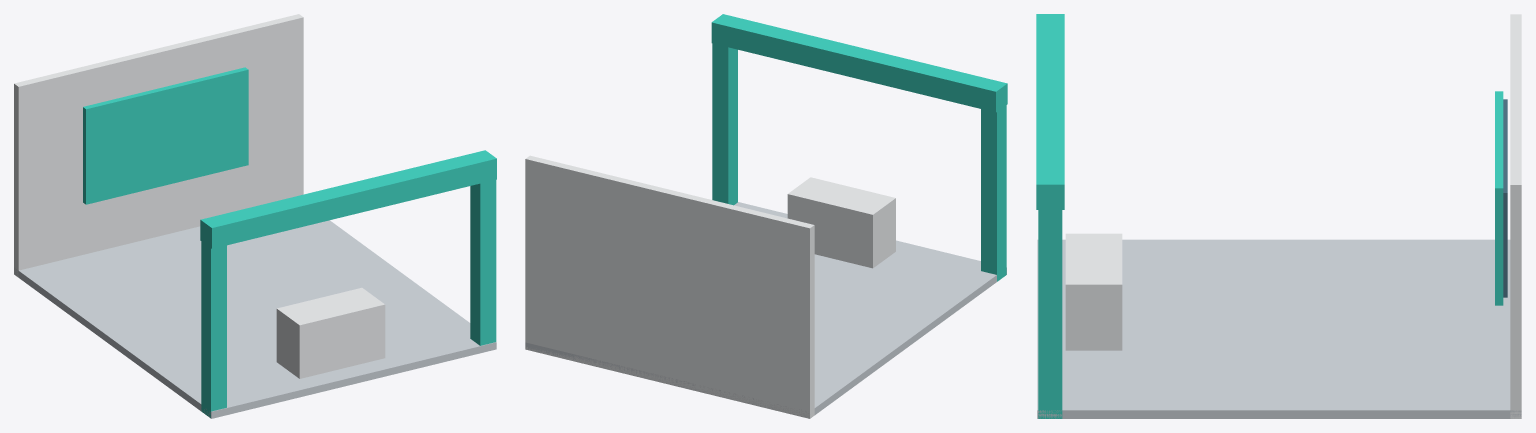
3 views of the same model, side by side, from view 1: azimuth 30°, elevation 25°; view 2: azimuth 150°, elevation 25°; view 3: azimuth 270°, elevation 25° (orthographic). The views are drawn at different scales.
Parts seen in each view (by area): view 1: Exhibition Booth Concept; view 2: Exhibition Booth Concept; view 3: Exhibition Booth Concept.
Boxes of the visible parts, box(x1,y1,x2,y2) form: Exhibition Booth Concept: box(14, 14, 496, 418); Exhibition Booth Concept: box(525, 14, 1007, 418); Exhibition Booth Concept: box(1036, 14, 1521, 418).
Size of the model in its own units: 5 by 3.2 by 6.02.
